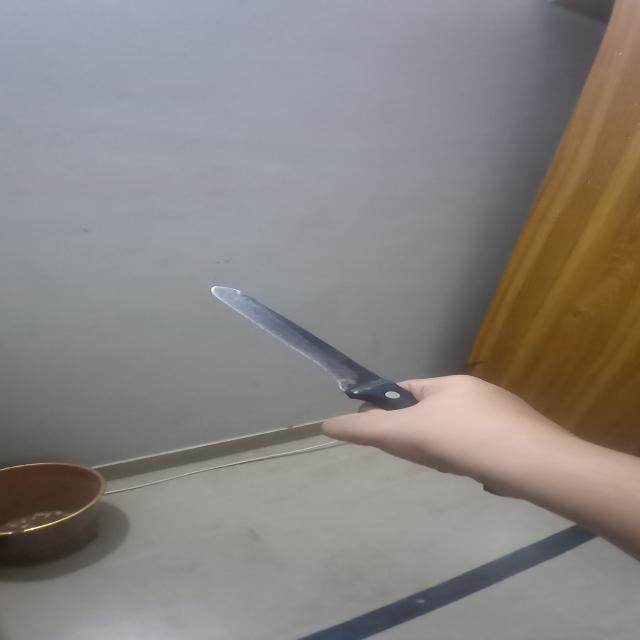Knife: (191, 282, 507, 473)
